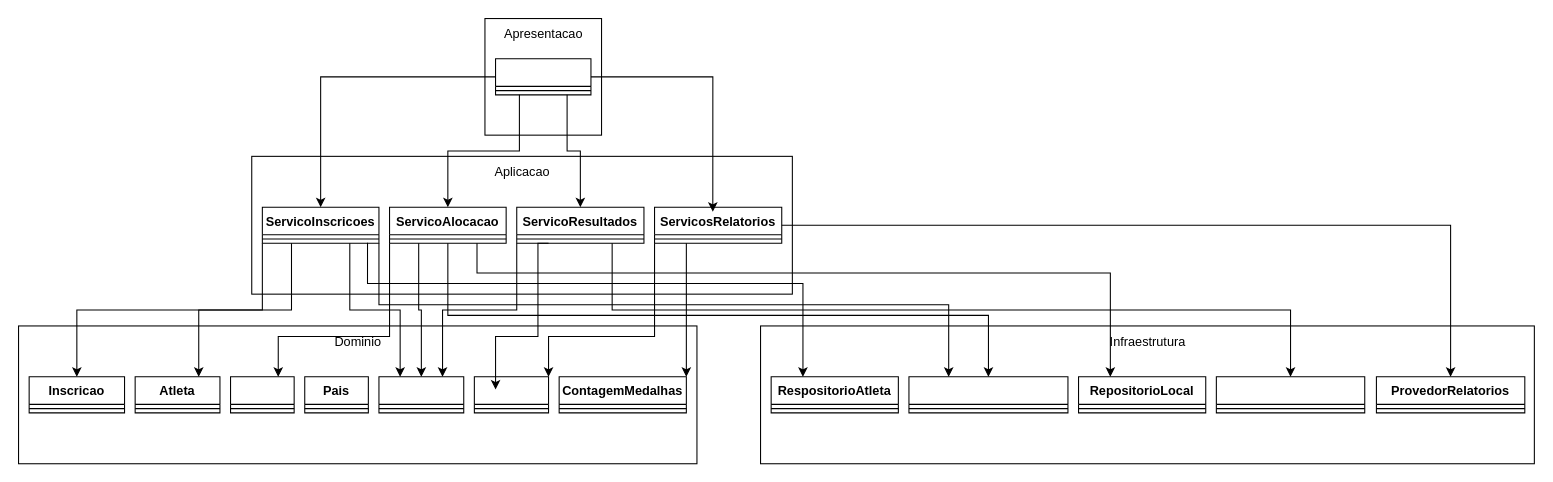
Some shapes in this 1553 by 482 pixel diagram are drawn without their labels. Each missing label, with the box of its shape:
Competicao: (378, 376, 464, 413)
Local: (229, 376, 294, 413)
RepositorioCompeticao: (908, 376, 1068, 413)
RepositorioResultado: (1215, 376, 1365, 413)
Resultado: (473, 376, 549, 413)
WebUI: (494, 58, 591, 95)
